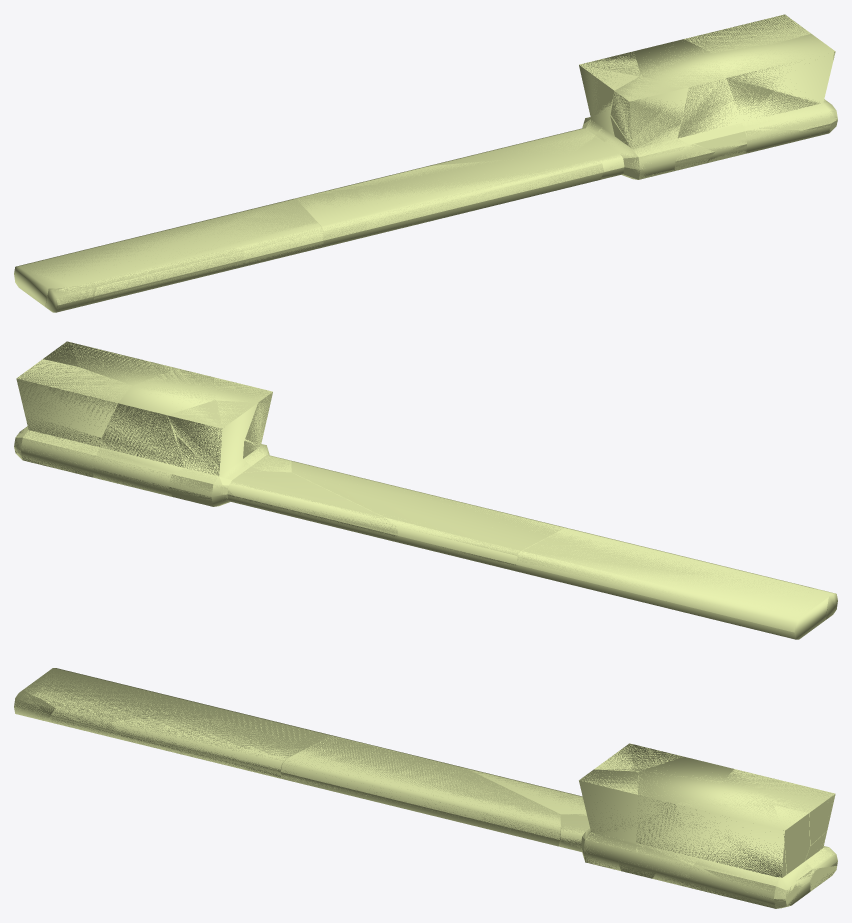
Rendered from P_BrosseADent.fbx.
3 views of the same model, one above another, from view 1: azimuth 30°, elevation 25°; view 2: azimuth 150°, elevation 25°; view 3: azimuth 330°, elevation 25° (orthographic).
Parts seen in each view (by area): view 1: P_BrosseADent, P_BrosseADent_cell.009, P_BrosseADent_cell.006, P_BrosseADent_cell.012, P_BrosseADent_cell.003, P_BrosseADent_cell.004, P_BrosseADent_cell, P_BrosseADent_cell.010, P_BrosseADent_cell.015, P_BrosseADent_cell.016, P_BrosseADent_cell.008; view 2: P_BrosseADent, P_BrosseADent_cell.009, P_BrosseADent_cell.006, P_BrosseADent_cell.004, P_BrosseADent_cell.003, P_BrosseADent_cell.010, P_BrosseADent_cell.001, P_BrosseADent_cell.012, P_BrosseADent_cell.017, P_BrosseADent_cell; view 3: P_BrosseADent, P_BrosseADent_cell.006, P_BrosseADent_cell.009, P_BrosseADent_cell.010, P_BrosseADent_cell.004, P_BrosseADent_cell, P_BrosseADent_cell.003, P_BrosseADent_cell.013, P_BrosseADent_cell.012, P_BrosseADent_cell.015, P_BrosseADent_cell.002, P_BrosseADent_cell.001.
Part boxes in pixels (x1,y1,x2,y2): P_BrosseADent: (19,14,837,312); P_BrosseADent_cell.009: (14,199,323,306); P_BrosseADent_cell.006: (294,160,603,244); P_BrosseADent_cell.012: (599,77,687,179); P_BrosseADent_cell.003: (640,48,746,163); P_BrosseADent_cell.004: (456,52,640,161); P_BrosseADent_cell: (720,44,828,127); P_BrosseADent_cell.010: (684,15,810,53); P_BrosseADent_cell.015: (757,103,837,130); P_BrosseADent_cell.016: (674,144,714,170); P_BrosseADent_cell.008: (45,288,92,312); P_BrosseADent: (14,341,834,638); P_BrosseADent_cell.009: (517,528,828,639); P_BrosseADent_cell.006: (291,460,567,565); P_BrosseADent_cell.004: (167,400,397,536); P_BrosseADent_cell.003: (93,368,213,495); P_BrosseADent_cell.010: (16,359,131,426); P_BrosseADent_cell.001: (14,414,100,477); P_BrosseADent_cell.012: (214,377,290,471); P_BrosseADent_cell.017: (168,437,234,506); P_BrosseADent_cell: (70,342,175,381); P_BrosseADent: (14,668,837,907); P_BrosseADent_cell.006: (280,736,560,846); P_BrosseADent_cell.009: (24,669,322,778); P_BrosseADent_cell.010: (722,769,835,845); P_BrosseADent_cell.004: (464,743,681,815); P_BrosseADent_cell: (676,793,787,878); P_BrosseADent_cell.003: (636,770,722,888); P_BrosseADent_cell.013: (775,806,812,880); P_BrosseADent_cell.012: (559,769,637,869); P_BrosseADent_cell.015: (704,868,788,901); P_BrosseADent_cell.002: (691,865,805,908); P_BrosseADent_cell.001: (805,831,837,868).
Bounding box in the file's own units: 484 × 49.25 × 61.9.
